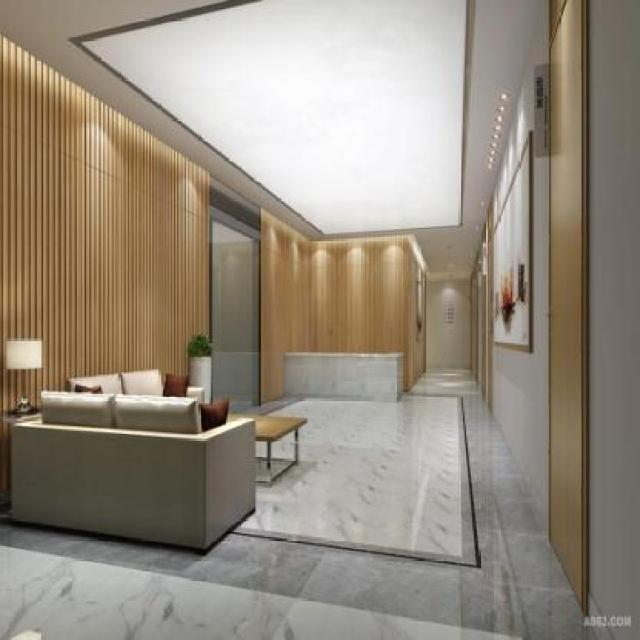frontdesk: (274, 337, 407, 410)
